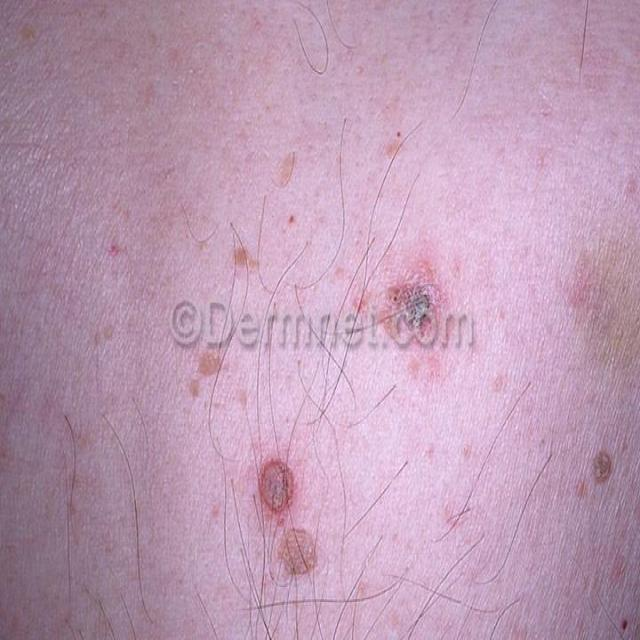Eczema: (130, 184, 456, 574)
